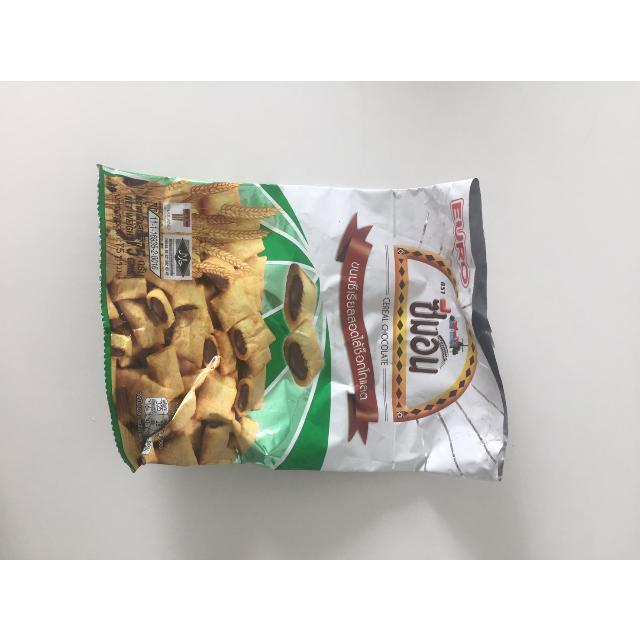Paquete de plastico: (90, 158, 515, 483)
